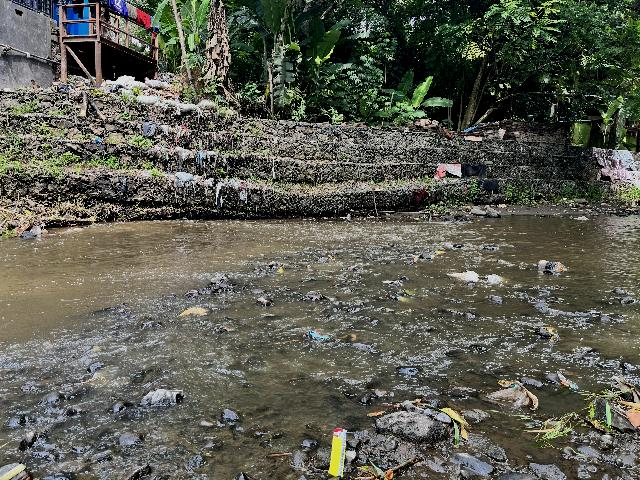Sampah Anorganik: (329, 427, 350, 479), (533, 253, 572, 280), (448, 267, 479, 285), (487, 274, 507, 287)
